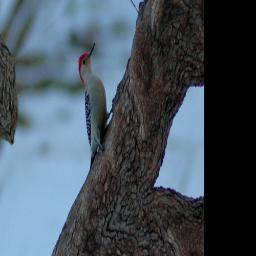Woodpecker: (63, 39, 123, 171)
